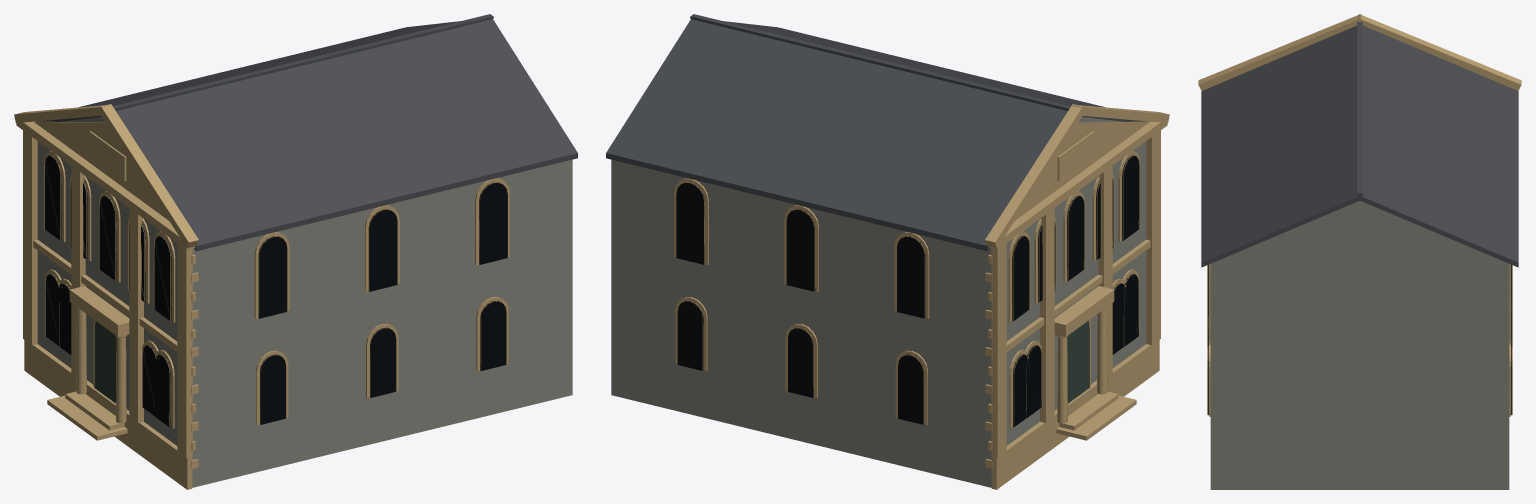
File: context.church.som_chapel.glb
3 views of the same model, side by side, from view 1: azimuth 30°, elevation 25°; view 2: azimuth 150°, elevation 25°; view 3: azimuth 270°, elevation 25° (orthographic). The views are drawn at different scales.
Parts seen in each view (by area): view 1: main__stone_888, main__clad_455, main__stone_ba7, main__glass_dark, main__stone_875, main__timber_344; view 2: main__stone_888, main__clad_455, main__stone_ba7, main__glass_dark, main__stone_875, main__timber_344; view 3: main__stone_888, main__clad_455, main__stone_ba7, main__stone_875.
Boxes of the visible parts, <box> form: main__stone_888: <box>37,117,572,487</box>; main__clad_455: <box>35,14,577,251</box>; main__stone_ba7: <box>14,104,509,489</box>; main__glass_dark: <box>45,155,507,427</box>; main__stone_875: <box>44,155,507,426</box>; main__timber_344: <box>94,321,116,403</box>; main__stone_888: <box>611,117,1146,487</box>; main__clad_455: <box>606,14,1148,251</box>; main__stone_ba7: <box>674,104,1169,489</box>; main__glass_dark: <box>676,155,1139,427</box>; main__stone_875: <box>676,155,1139,426</box>; main__timber_344: <box>1067,321,1089,403</box>; main__stone_888: <box>1210,201,1509,489</box>; main__clad_455: <box>1201,22,1518,267</box>; main__stone_ba7: <box>1198,14,1521,416</box>; main__stone_875: <box>1207,265,1512,414</box>.
Size of the model in its own units: 16.5 by 12.2 by 11.91.
